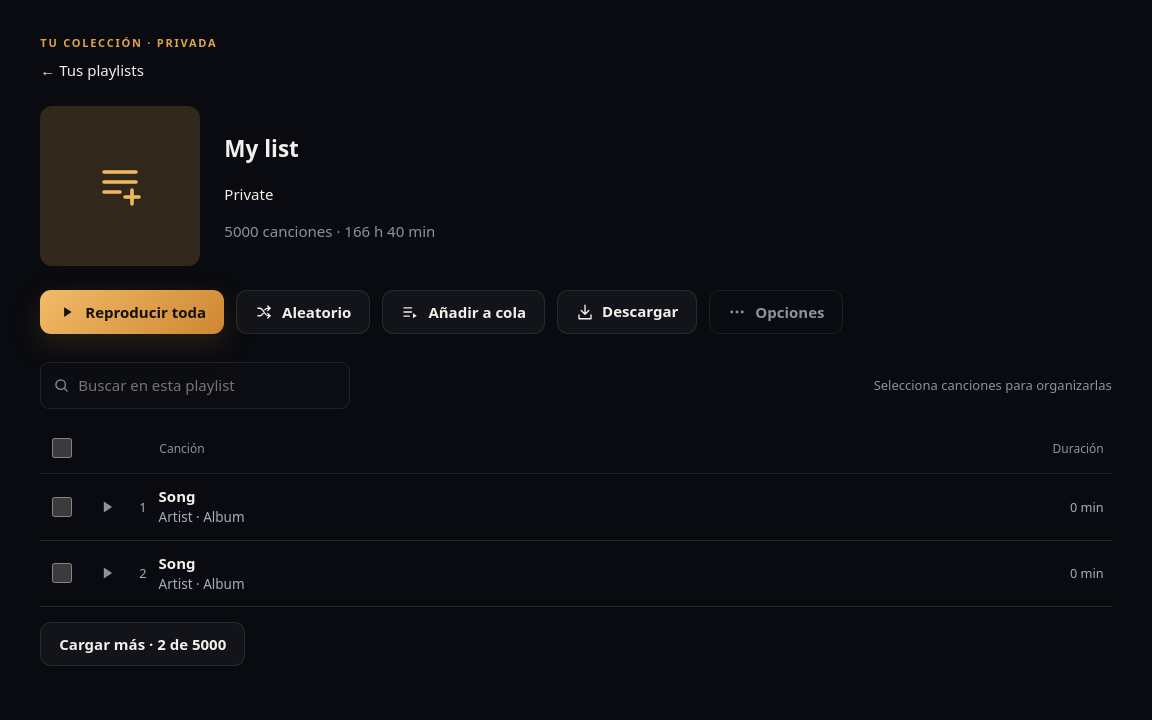
personal playlists › keeps search mounted and uses a single contextual action region on selection
The width and height of the screenshot is (1152, 720).
Click the 1st checkbox named "Seleccionar Song". click: point(62, 507)
box: [52,497,72,517]
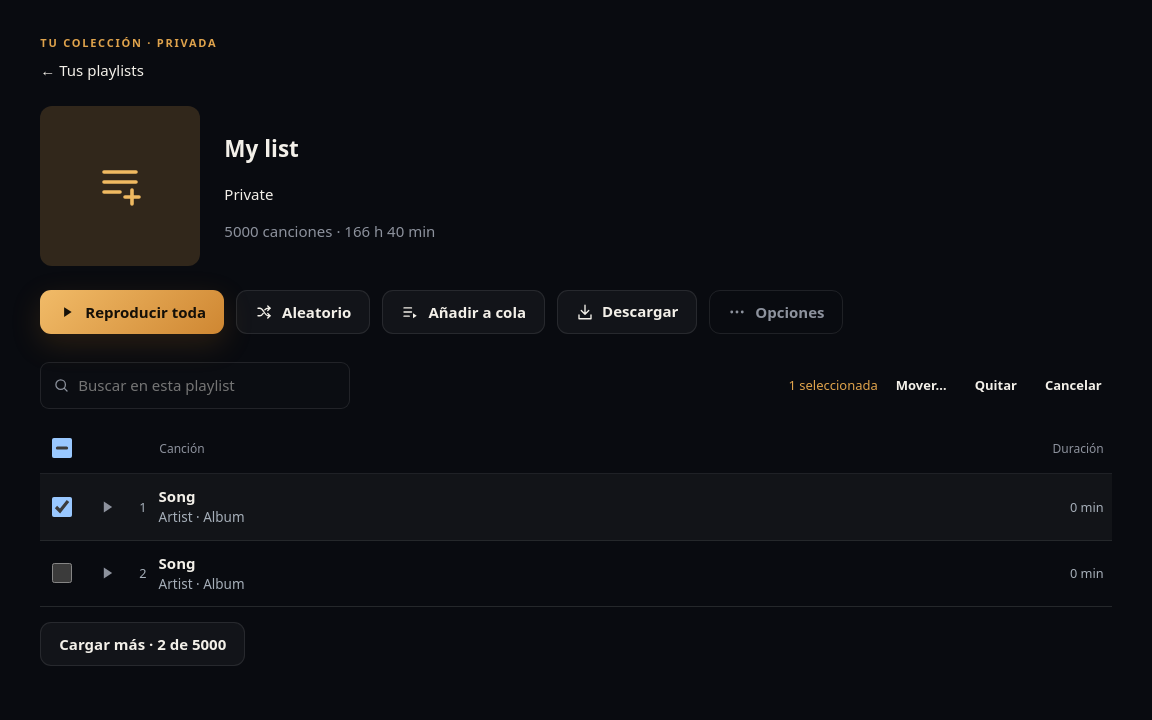
expect the element with class "selection-actions" shows "1 seleccionada": met, box [788,376,878,394]
expect the element with class "selection-actions" shows "Mover": met, box [886,366,957,406]
